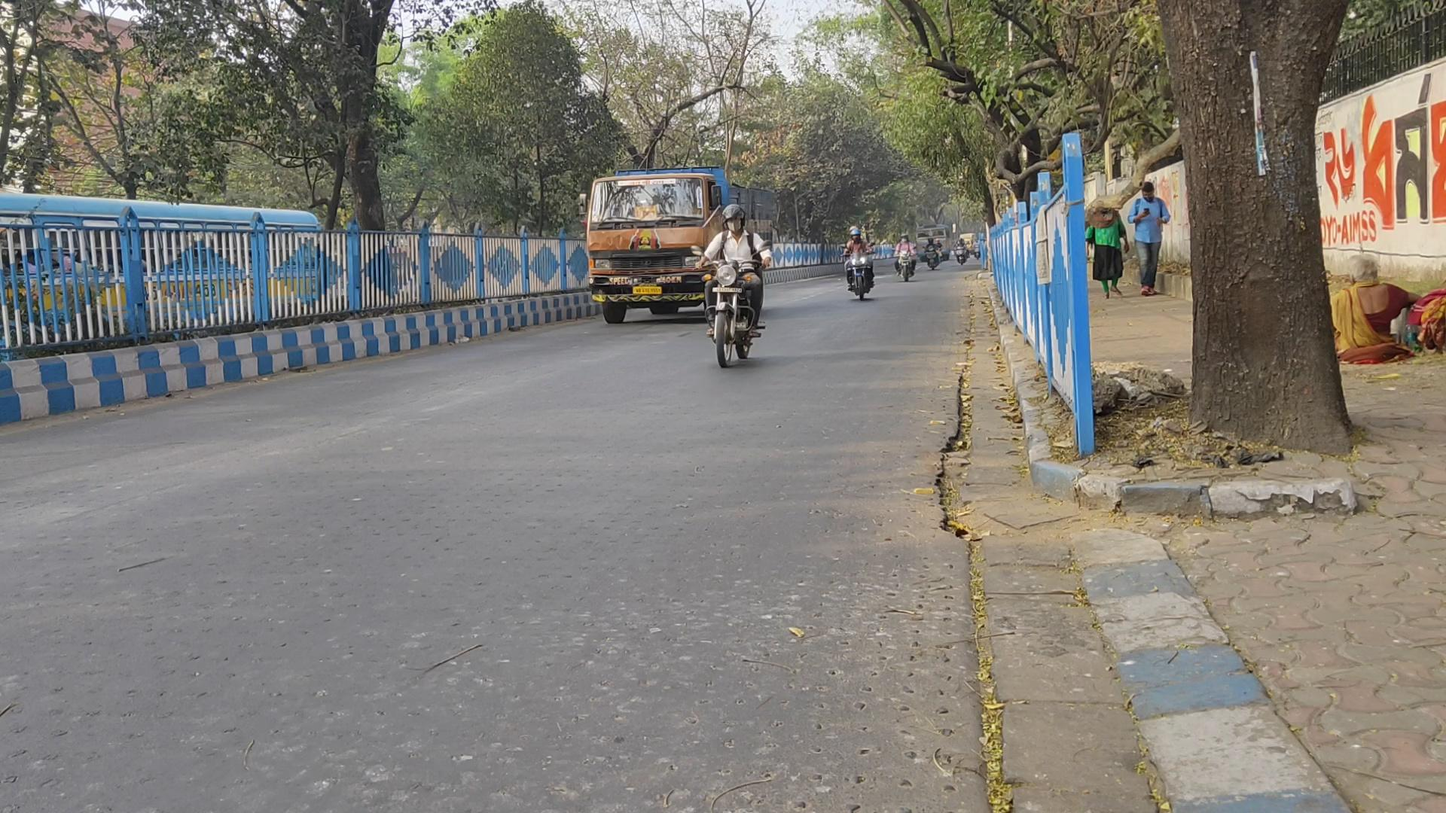Bus: (916, 223, 951, 263)
bike: (690, 202, 769, 368), (840, 225, 877, 300), (893, 232, 918, 282), (923, 237, 941, 271), (953, 237, 970, 266)
truck: (578, 171, 769, 330)
